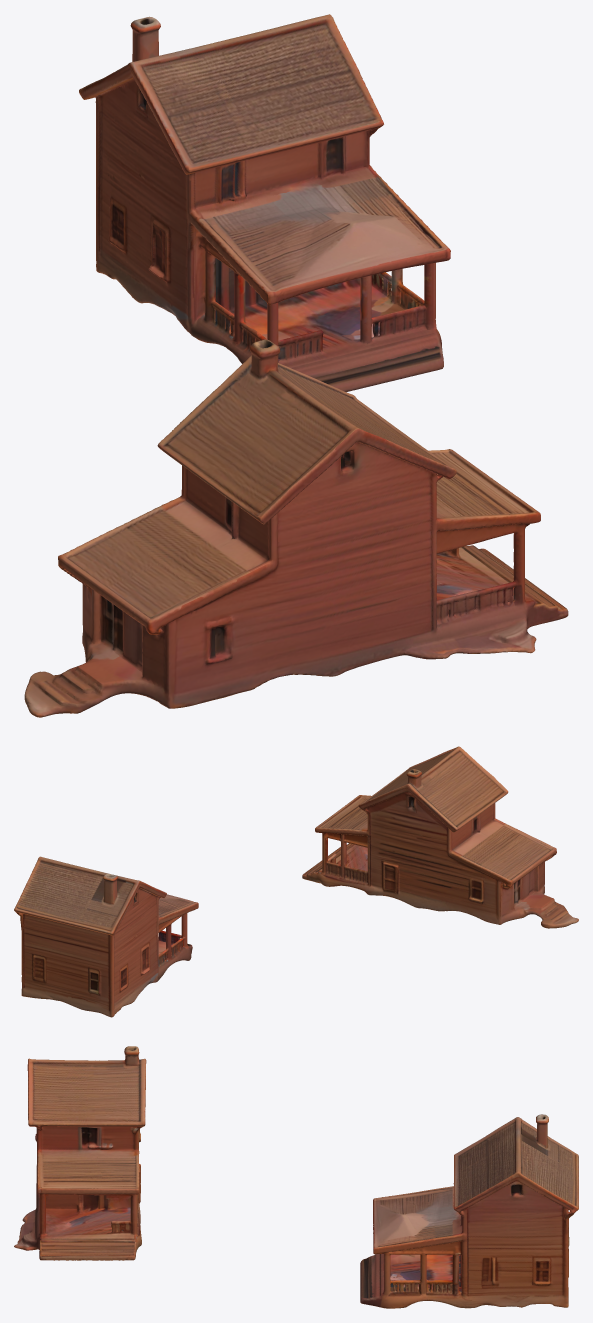
The model's file is houses.glb.
3 renders of one model, top to bottom at view 1: azimuth 30°, elevation 25°; view 2: azimuth 150°, elevation 25°; view 3: azimuth 270°, elevation 25°, orthographic. The views are drawn at different scales.
Parts seen in each view (by area): view 1: tripo_node_4be16d54-e5e4-4d66-ac2b-ac1a502df54a; view 2: tripo_node_4be16d54-e5e4-4d66-ac2b-ac1a502df54a; view 3: tripo_node_4be16d54-e5e4-4d66-ac2b-ac1a502df54a.
Part boxes in pixels (x1,y1,x2,y2): tripo_node_4be16d54-e5e4-4d66-ac2b-ac1a502df54a: [24, 14, 568, 717]; tripo_node_4be16d54-e5e4-4d66-ac2b-ac1a502df54a: [14, 746, 578, 1017]; tripo_node_4be16d54-e5e4-4d66-ac2b-ac1a502df54a: [14, 1046, 578, 1308].
Bounding box in the file's own units: 0.7946 × 0.302 × 1.
1 material, 1 textured.
